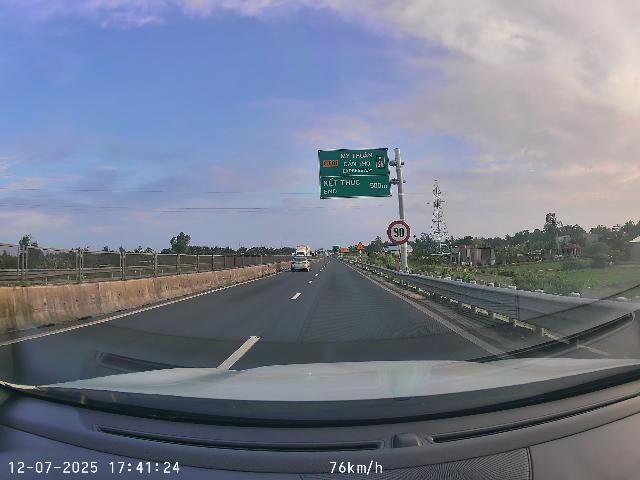127-toc-do-toi-da-90: (387, 220, 411, 245)
438-ket-thuc-duong-cao-toc: (375, 156, 386, 169)
